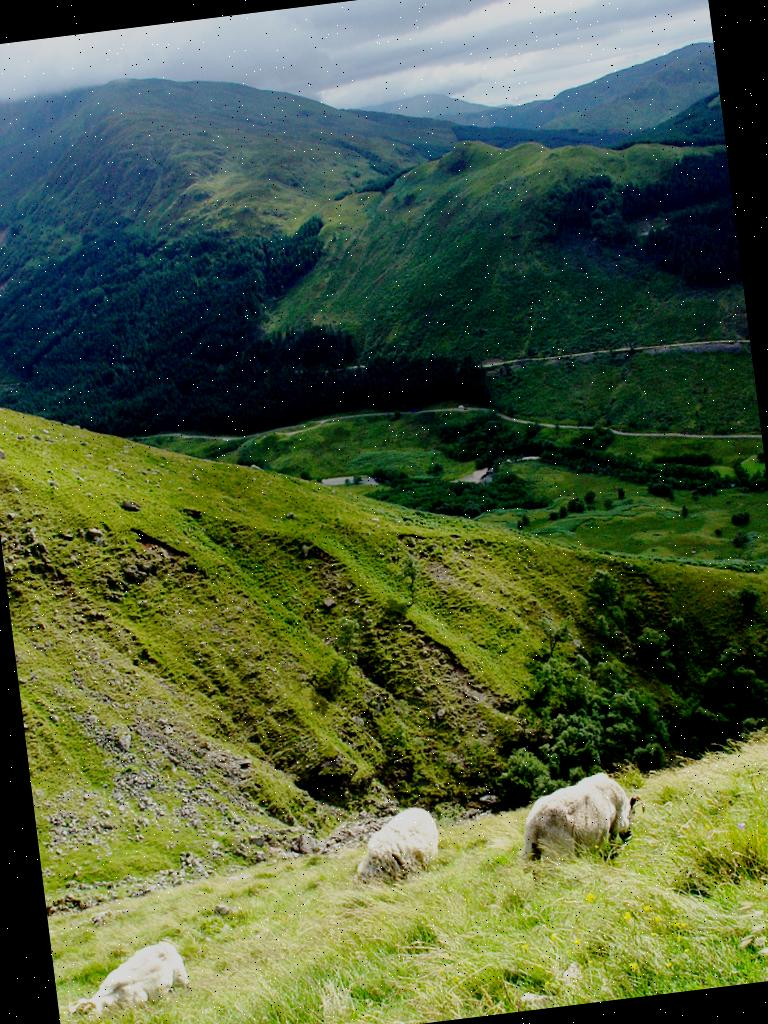Sheep: (512, 762, 644, 878), (53, 936, 194, 1023), (343, 798, 449, 894)
